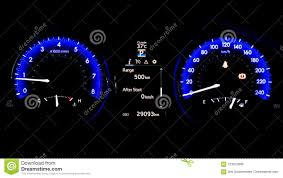Digital_Meter: (119, 107, 166, 121)
